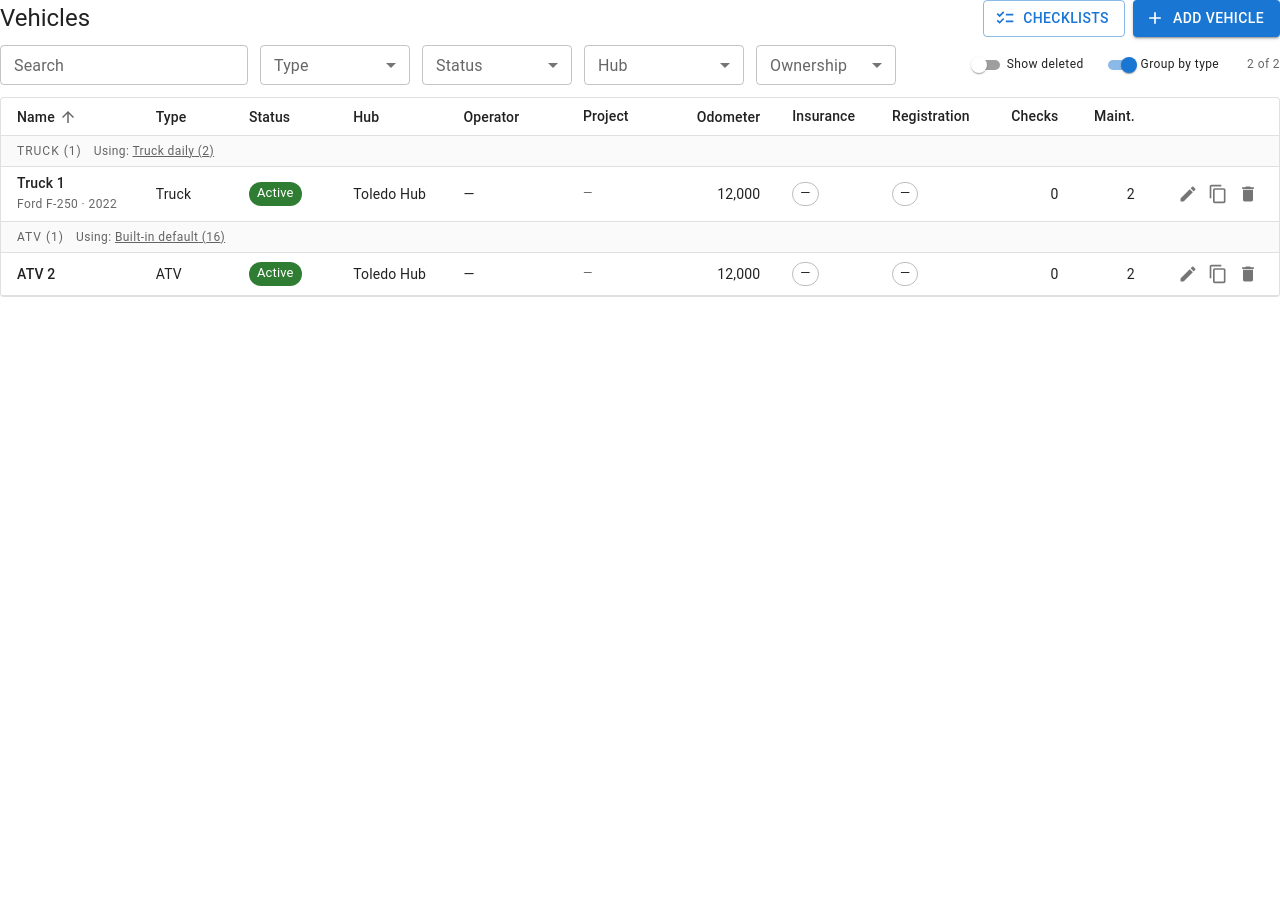
UXP-6 (6b): vehicle form on EntityFormDialog › Edit vehicle: no QR field, and the PATCH body never carries qrCodeId
This screenshot has width=1280, height=900.
Expected: the text "Truck 1" is shown, [17, 173, 65, 193]
Click the button named "Edit" in the row of "Truck 1" at coordinates (1188, 194), box [1173, 179, 1203, 209]
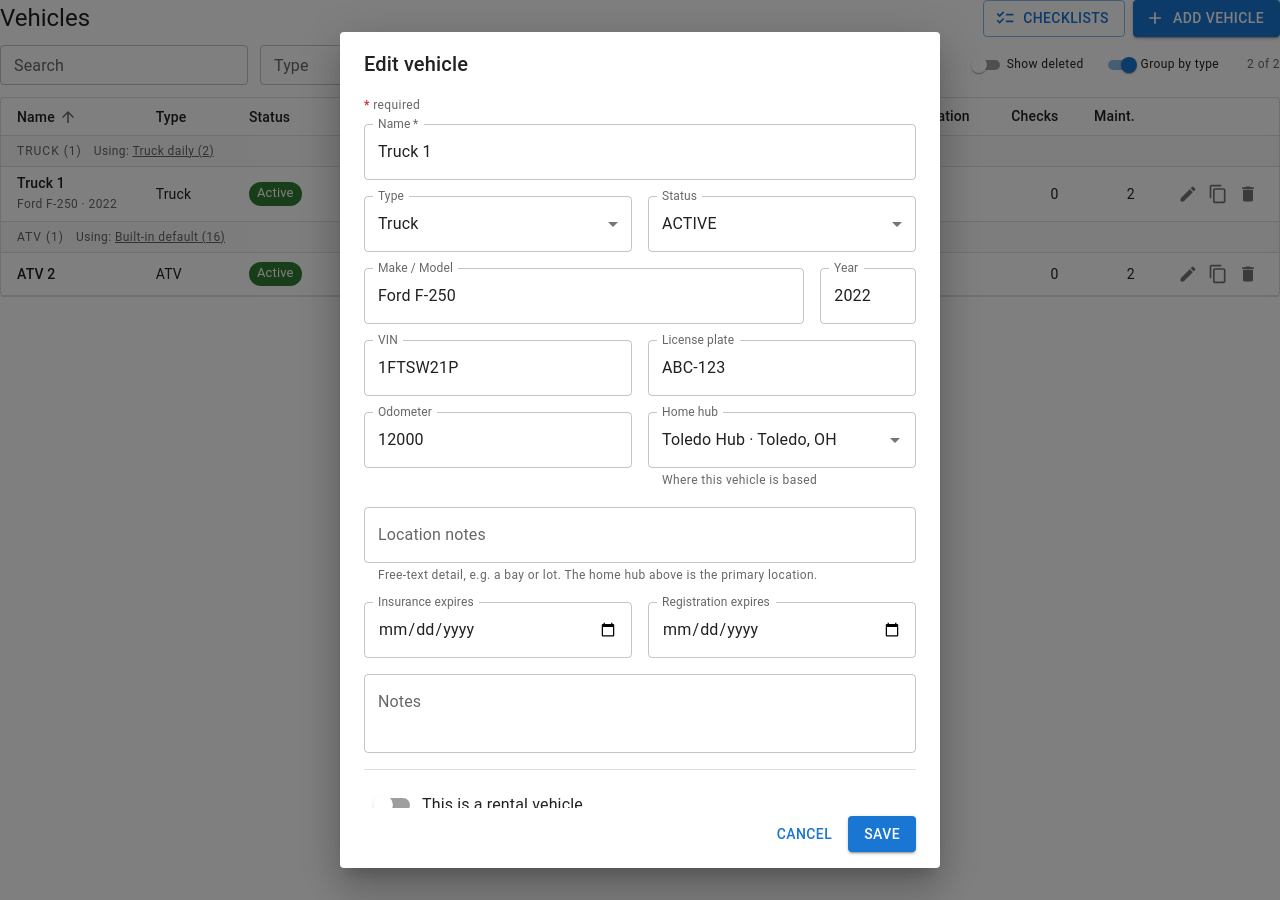
Expected: the heading "Edit vehicle" is shown, [364, 52, 468, 76]
Expected: the field labelled "Name *" holds "Truck 1"
Expected: the dropdown named "Status" is shown, [662, 214, 717, 233]
Replace the text in the field labelled "Name *" with "Truck 1b" at coordinates (640, 152), box [364, 124, 916, 180]
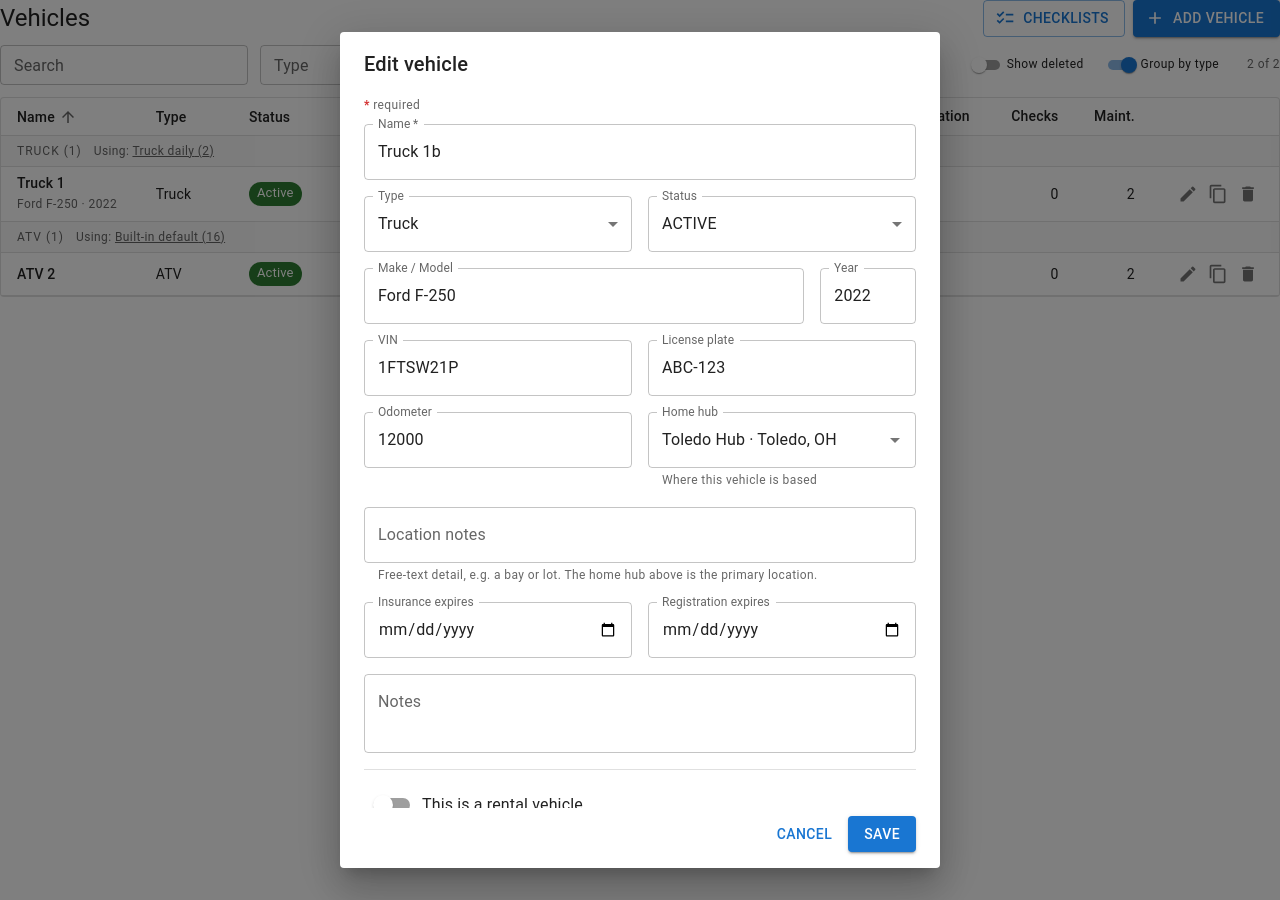
Click the button "Save" at coordinates (882, 834), box [848, 816, 916, 852]
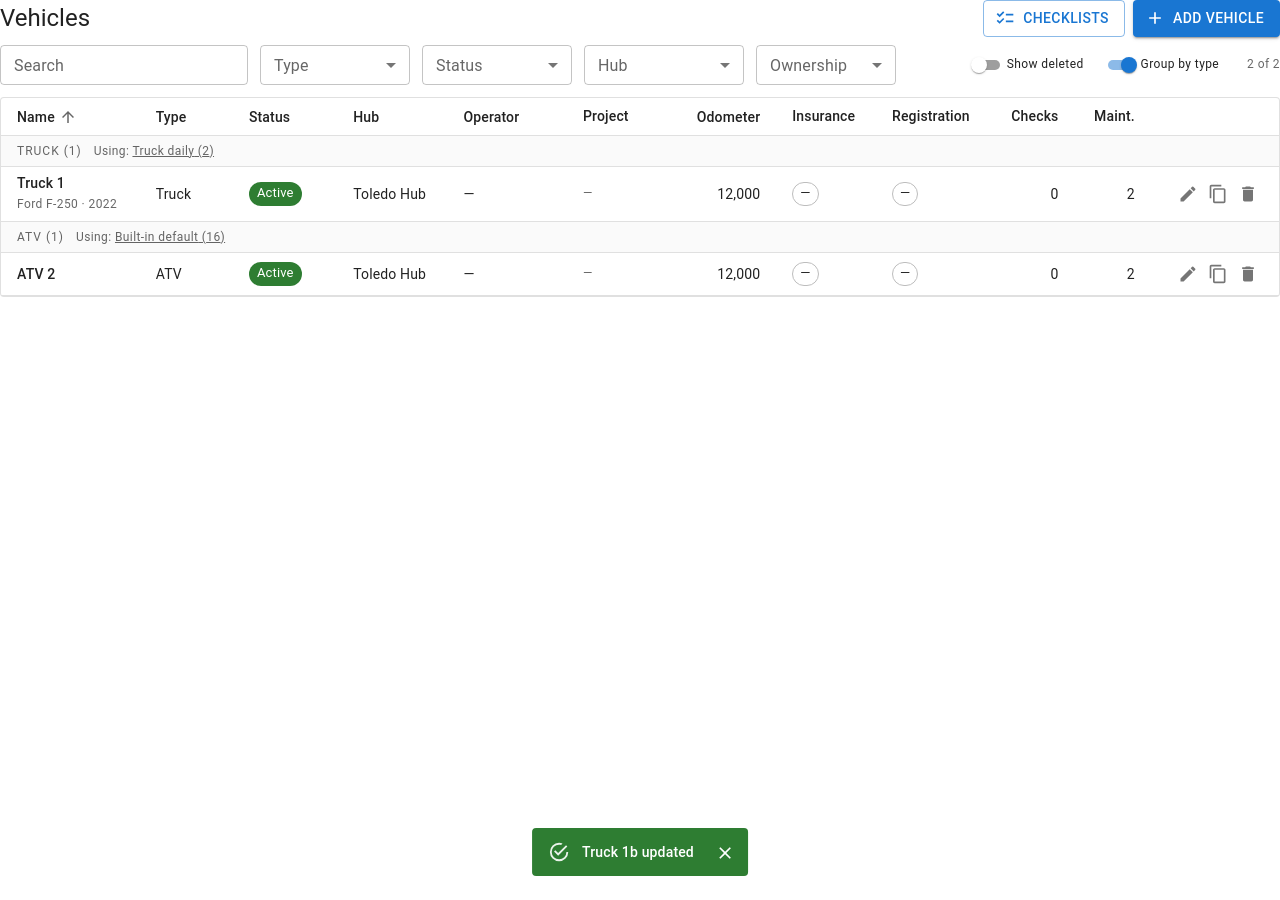
Expected: the text "Truck 1b updated" is shown, [582, 844, 694, 860]
